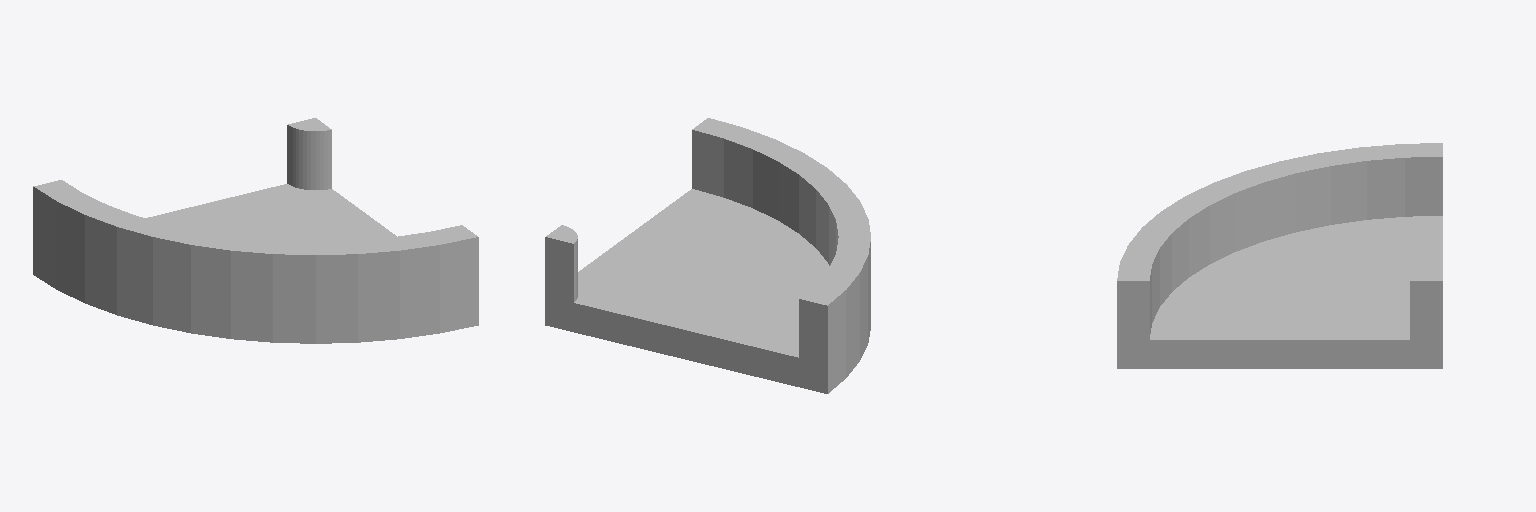
Rendered from Corner.obj.
3 views of the same model, side by side, from view 1: azimuth 30°, elevation 25°; view 2: azimuth 150°, elevation 25°; view 3: azimuth 270°, elevation 25° (orthographic).
Parts seen in each view (by area): view 1: Corner; view 2: Corner; view 3: Corner.
Part boxes in pixels (bbox=[...]): Corner: bbox=[33, 118, 478, 343]; Corner: bbox=[545, 118, 870, 393]; Corner: bbox=[1117, 143, 1442, 368].
Bounding box in the file's own units: 2 × 0.6 × 2.